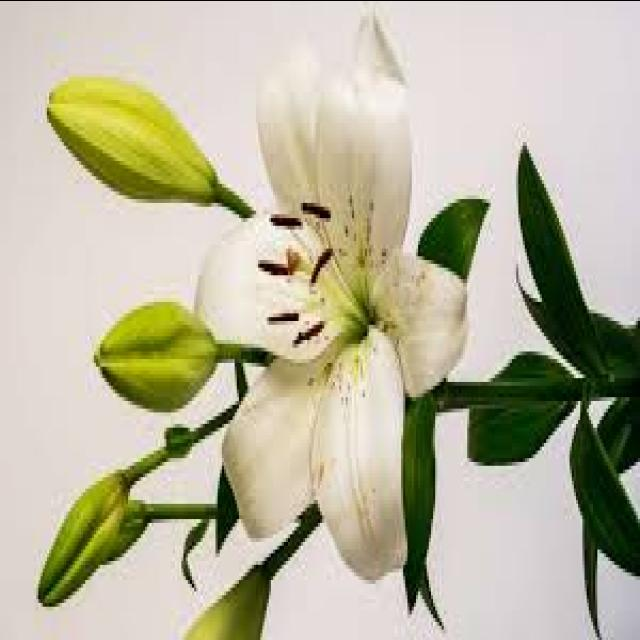lily: (184, 0, 482, 602)
